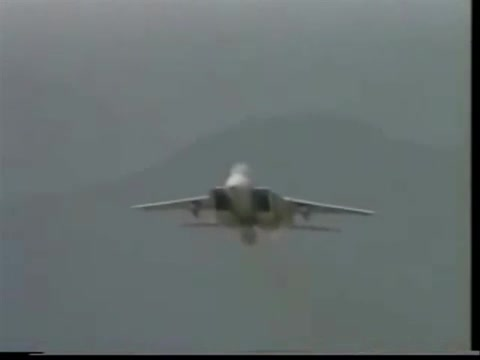aeroplane: (129, 162, 379, 249)
